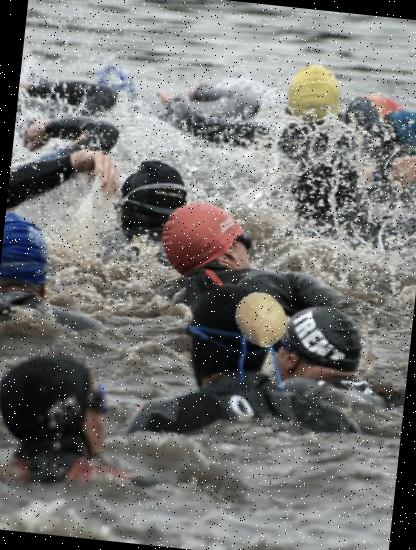Lemon: (230, 288, 292, 350)
